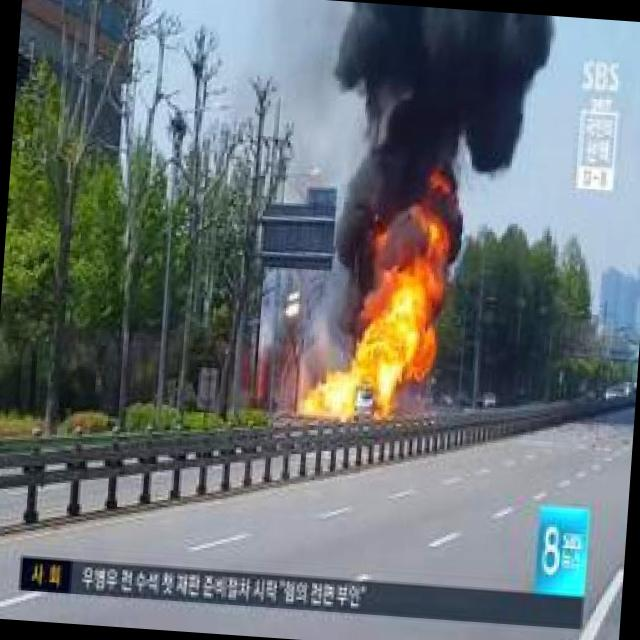Fire: (364, 166, 448, 388), (301, 376, 359, 414), (368, 391, 397, 414)
Smoke: (328, 1, 553, 166)
